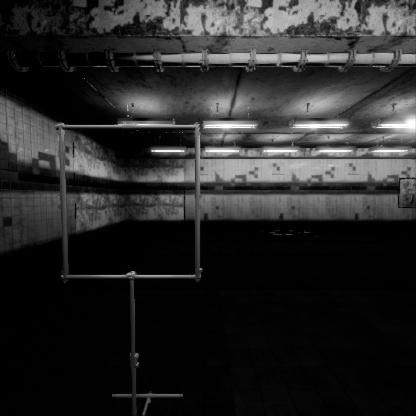gate: (59, 134, 213, 291)
